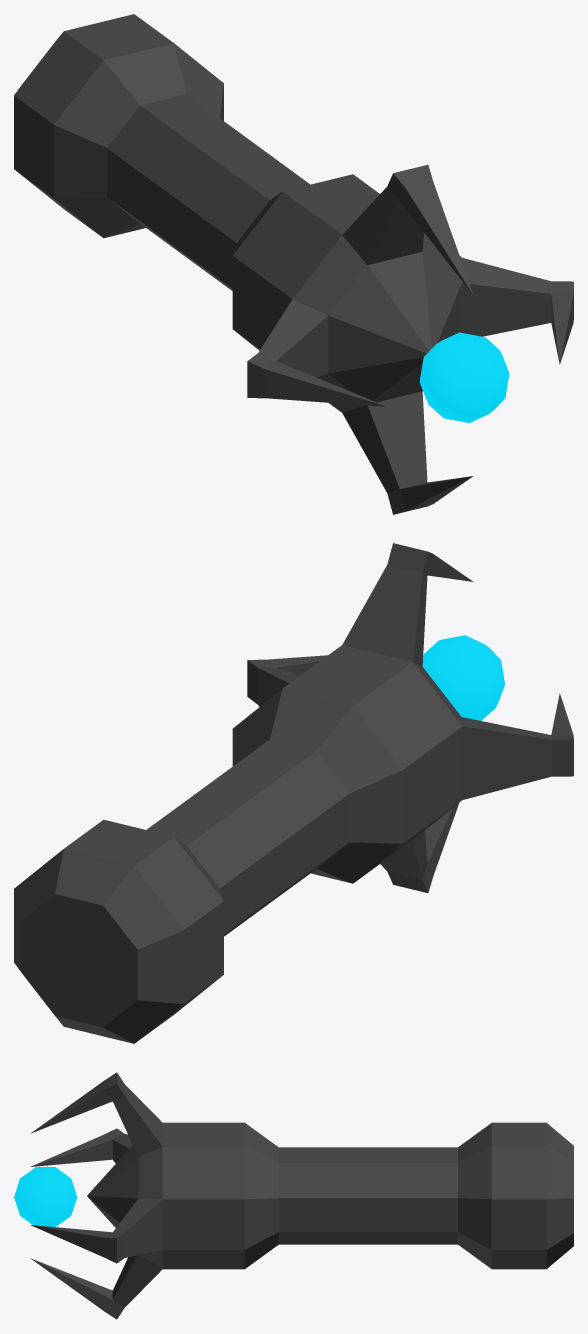
File: Beam.fbx
The picture shows the model from 3 angles, top to bottom: view 1: azimuth 30°, elevation 25°; view 2: azimuth 150°, elevation 25°; view 3: azimuth 270°, elevation 25°; orthographic projection. The views are drawn at different scales.
Parts seen in each view (by area): view 1: Beam Device, Beam Energy; view 2: Beam Device, Beam Energy; view 3: Beam Device, Beam Energy.
Part boxes in pixels (<box>): Beam Device: <box>14,14,573,514</box>; Beam Energy: <box>419,332,509,422</box>; Beam Device: <box>14,543,573,1043</box>; Beam Energy: <box>422,635,504,720</box>; Beam Device: <box>30,1072,573,1319</box>; Beam Energy: <box>14,1167,77,1226</box>.
Bounding box in the file's own units: 84.37 × 84.37 × 182.
